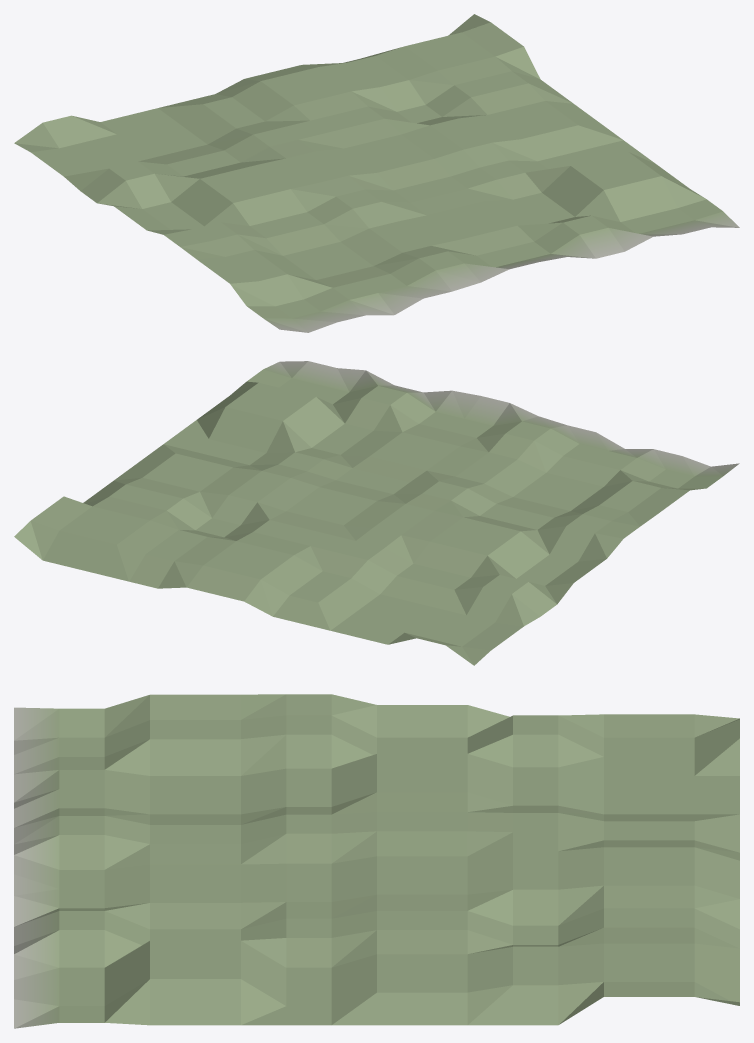
3 renders of one model, top to bottom at view 1: azimuth 30°, elevation 25°; view 2: azimuth 150°, elevation 25°; view 3: azimuth 270°, elevation 25°, orthographic. The views are drawn at different scales.
Bounding box in the file's own units: 32 × 1.75 × 32.
